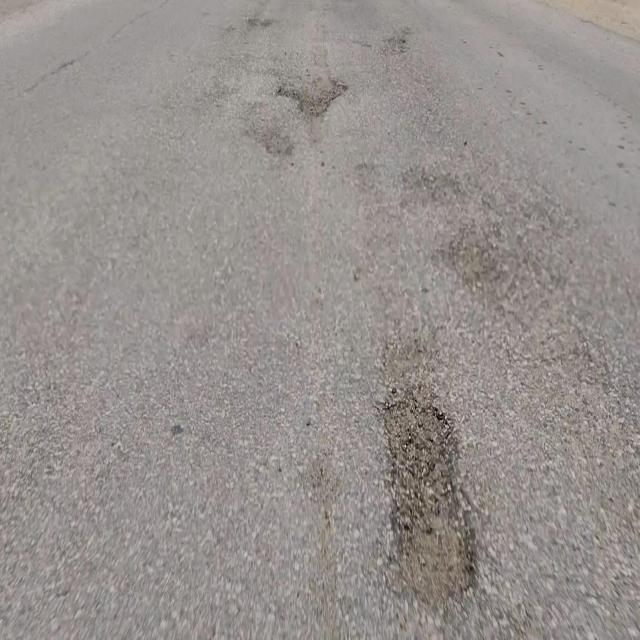Potholes: (382, 386, 477, 617), (270, 60, 349, 150), (246, 117, 295, 161)
